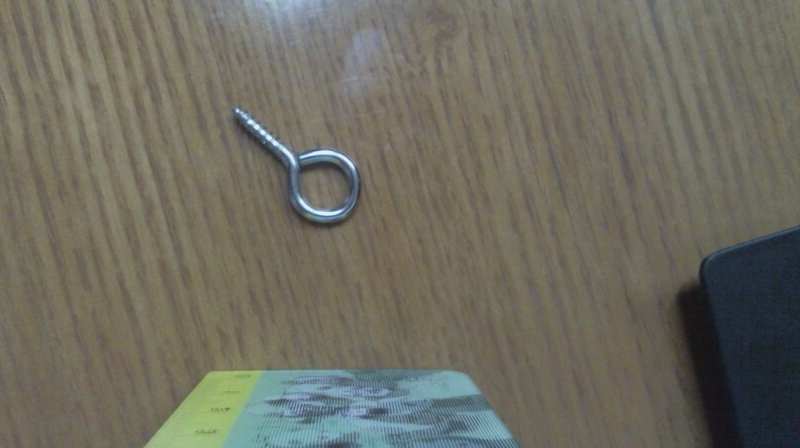O001: (228, 101, 364, 228)
